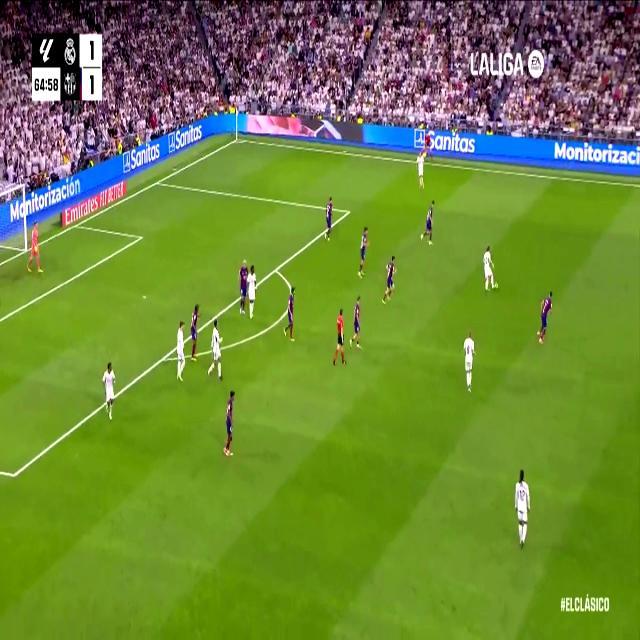bigarea_bottom_inner: (9, 461, 19, 487)
bigarea_top_inner: (345, 204, 351, 218)
bigarea_top_outter: (155, 176, 161, 187)
bottom_arc_area_intersection: (159, 348, 169, 367)
corner: (232, 133, 242, 144)
smallarea_top_inner: (138, 230, 144, 244)
top_arc_area_intersection: (272, 260, 280, 278)
